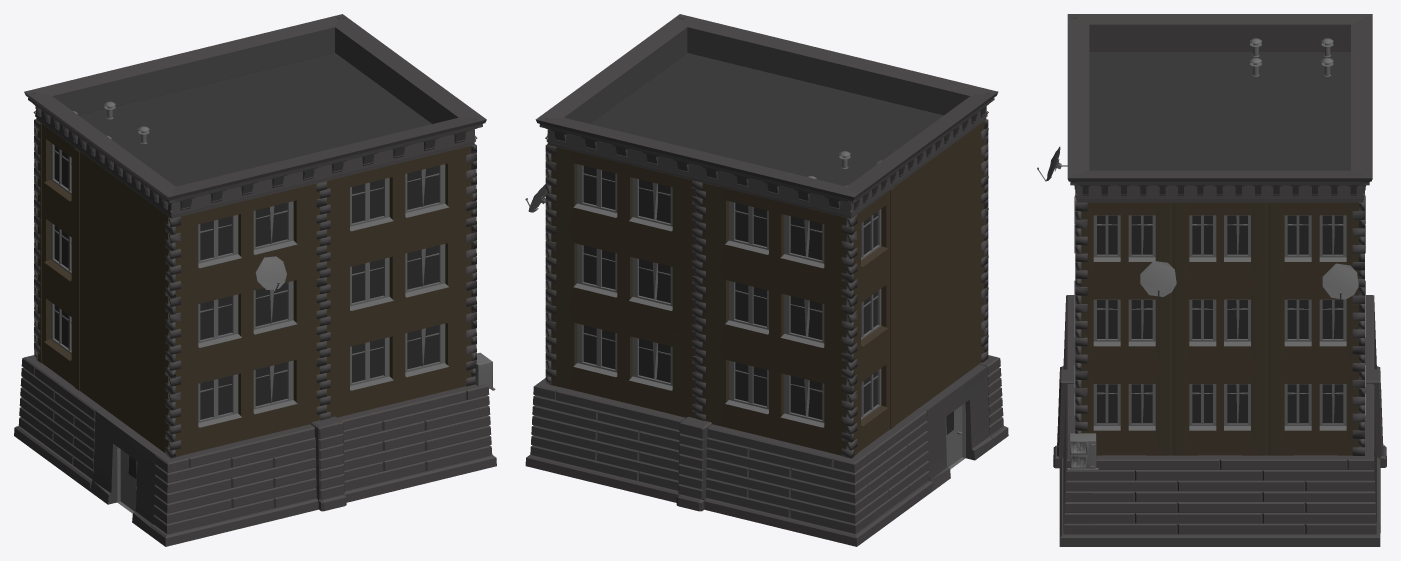
The picture shows the model from 3 angles, left to right: view 1: azimuth 30°, elevation 25°; view 2: azimuth 150°, elevation 25°; view 3: azimuth 270°, elevation 25°; orthographic projection. The views are drawn at different scales.
Visible parts, largest first — view 1: Plane.006, middle_floor_wall_02.229, middle_floor_wall_02.228, middle_floor_wall_02.227, middle_floor_wall_02.236, ground_floor_wall_02.057, ground_floor_wall_02.054, middle_floor_wall_02.237, middle_floor_wall_02.238, ground_floor_wall_02.051, ground_floor_wall_01.018, trimm.090 (+32 smaller); view 2: Plane.006, middle_floor_wall_02.232, middle_floor_wall_02.235, middle_floor_wall_02.231, middle_floor_wall_02.234, middle_floor_wall_02.230, middle_floor_wall_02.233, ground_floor_wall_02.056, ground_floor_wall_02.055, ground_floor_wall_02.051, ground_floor_wall_01.018, trimm.089 (+31 smaller); view 3: Plane.006, ground_floor_wall_02.053, ground_floor_wall_02.052, middle_floor_wall_02.219, middle_floor_wall_02.222, middle_floor_wall_02.225, middle_floor_wall_02.220, middle_floor_wall_02.221, middle_floor_wall_02.218, middle_floor_wall_02.223, middle_floor_wall_02.226, middle_floor_wall_02.224 (+27 smaller).
Part boxes in pixels (<box>): Plane.006: <box>79,53,431,186</box>; middle_floor_wall_02.229: <box>323,145,473,259</box>; middle_floor_wall_02.228: <box>327,226,471,339</box>; middle_floor_wall_02.227: <box>327,305,471,417</box>; middle_floor_wall_02.236: <box>176,343,320,456</box>; ground_floor_wall_02.057: <box>185,424,318,540</box>; ground_floor_wall_02.054: <box>338,387,470,502</box>; middle_floor_wall_02.237: <box>175,263,320,377</box>; middle_floor_wall_02.238: <box>173,182,322,297</box>; ground_floor_wall_02.051: <box>29,364,103,491</box>; ground_floor_wall_01.018: <box>90,408,163,535</box>; trimm.090: <box>184,16,339,86</box>; Plane.006: <box>590,53,943,185</box>; middle_floor_wall_02.232: <box>548,145,698,260</box>; middle_floor_wall_02.235: <box>700,182,850,296</box>; middle_floor_wall_02.231: <box>551,227,695,340</box>; middle_floor_wall_02.234: <box>702,263,846,375</box>; middle_floor_wall_02.230: <box>551,306,695,418</box>; middle_floor_wall_02.233: <box>702,342,846,455</box>; ground_floor_wall_02.056: <box>704,424,837,540</box>; ground_floor_wall_02.055: <box>552,387,685,502</box>; ground_floor_wall_02.051: <box>858,408,932,535</box>; ground_floor_wall_01.018: <box>919,364,992,490</box>; trimm.089: <box>683,16,838,86</box>; Plane.006: <box>1089,51,1350,170</box>; ground_floor_wall_02.053: <box>1220,455,1347,546</box>; ground_floor_wall_02.052: <box>1092,455,1219,546</box>; middle_floor_wall_02.219: <box>1172,371,1267,455</box>; middle_floor_wall_02.222: <box>1172,287,1267,371</box>; middle_floor_wall_02.225: <box>1172,202,1267,286</box>; middle_floor_wall_02.220: <box>1268,371,1358,455</box>; middle_floor_wall_02.221: <box>1080,287,1172,371</box>; middle_floor_wall_02.218: <box>1081,371,1172,455</box>; middle_floor_wall_02.223: <box>1268,287,1359,371</box>; middle_floor_wall_02.226: <box>1268,202,1358,286</box>; middle_floor_wall_02.224: <box>1081,202,1172,286</box>.
Size of the model in its own units: 1391 by 1313 by 1139.
